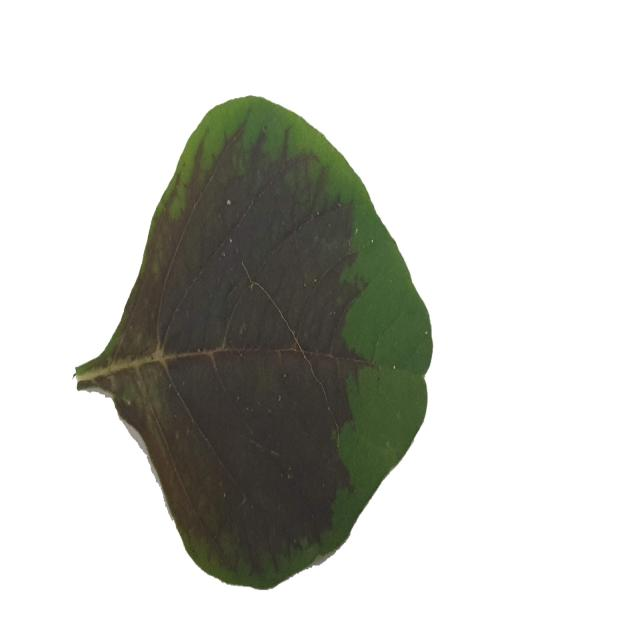Medicinal-Arive Dantu: (75, 89, 433, 596)
